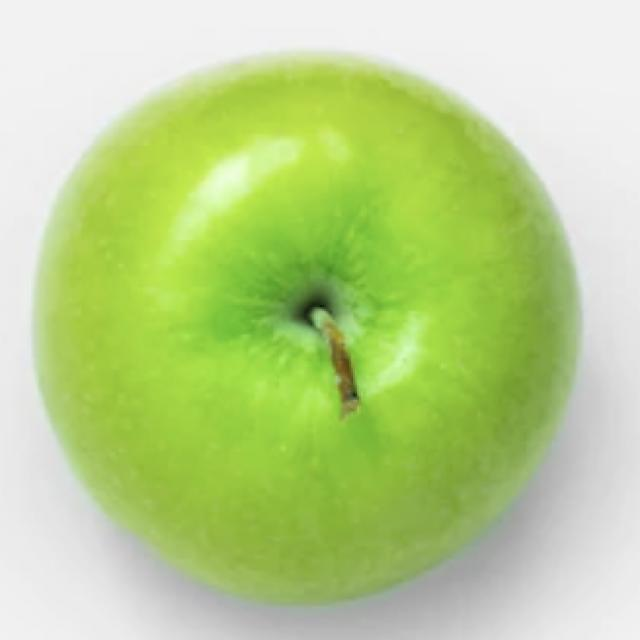Fresh Apple: (35, 72, 550, 578)
